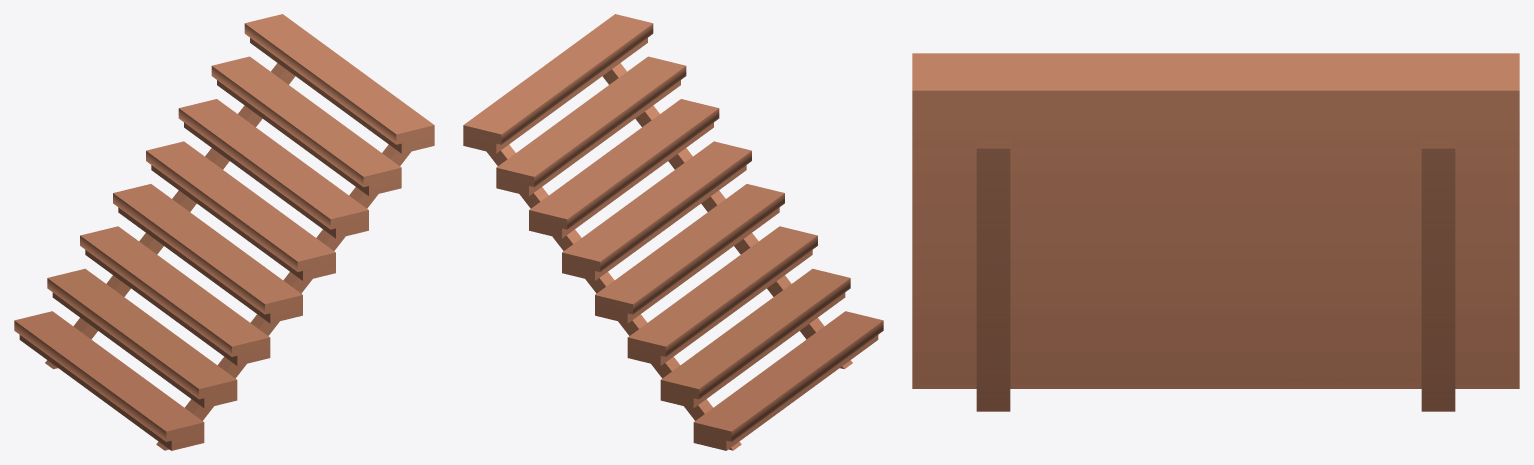
Rendered from stairs-wide-wood.fbx.
3 renders of one model, left to right at view 1: azimuth 30°, elevation 25°; view 2: azimuth 150°, elevation 25°; view 3: azimuth 270°, elevation 25°, orthographic. The views are drawn at different scales.
Visible parts, largest first — view 1: stairs-wide-wood; view 2: stairs-wide-wood; view 3: stairs-wide-wood.
Boxes of the visible parts, x1,y1,x2,y2 form: stairs-wide-wood: [14, 14, 434, 450]; stairs-wide-wood: [463, 14, 883, 450]; stairs-wide-wood: [912, 53, 1519, 411].
Bounding box in the file's own units: 102 × 100 × 100.
1 material, 1 textured.
